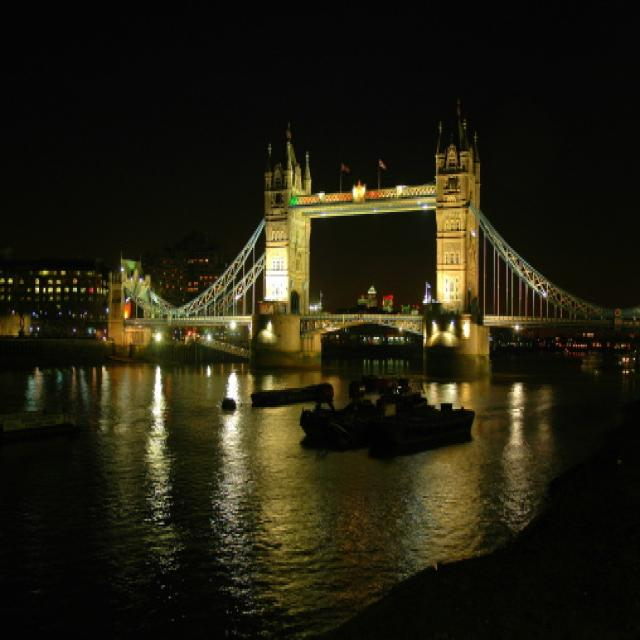Boat: (365, 374, 467, 469), (233, 375, 351, 437), (295, 391, 383, 456)
